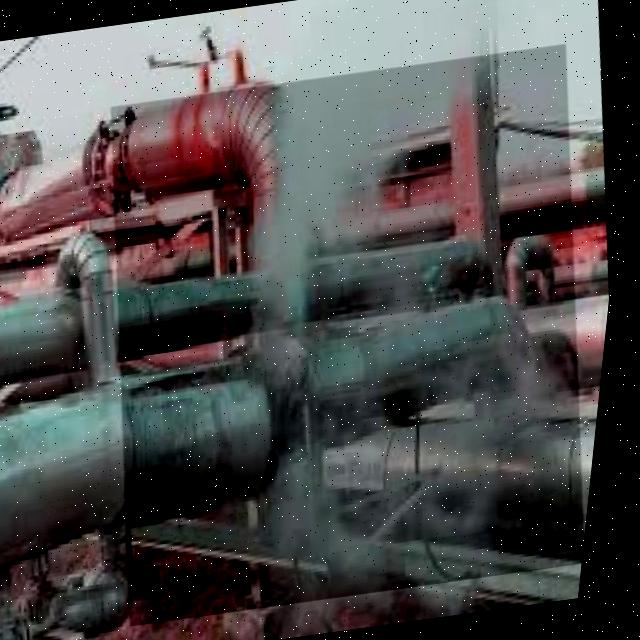corrosion: (111, 44, 584, 626)
